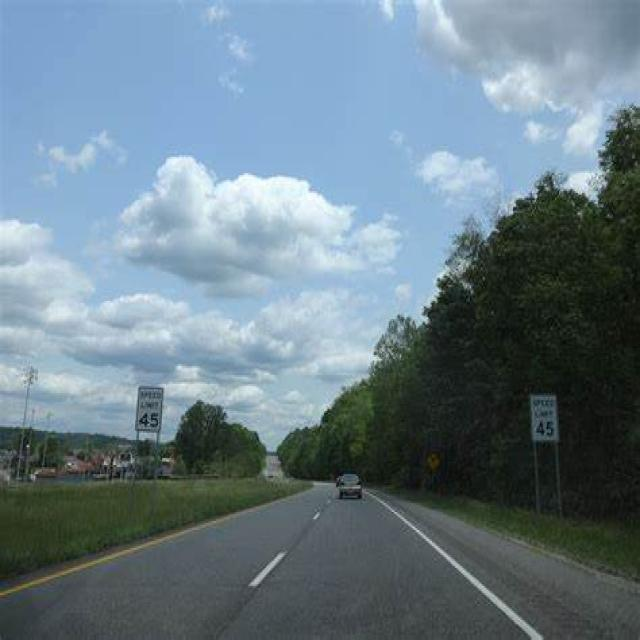speedLimit45: (526, 377, 560, 447), (138, 384, 164, 436)
